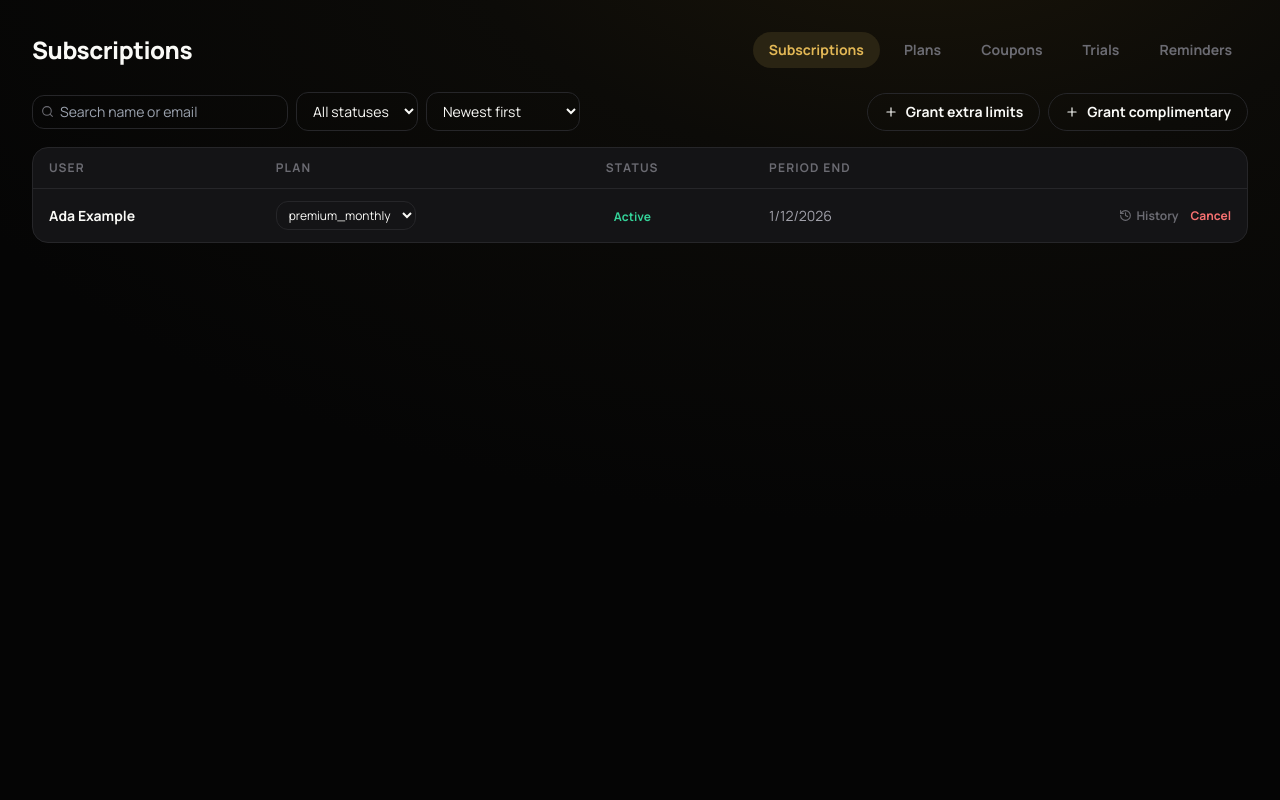
it: Subscriptions (admin) › opens a user's subscription history from the History button
Expected: the table with test id "admin-subscriptions-table" is shown, top-left (33, 148), bottom-right (1247, 242)
Click the button with test id "admin-subscriptions-history-btn-sub1".
click(1149, 216)  # box top-left (1119, 208), bottom-right (1178, 224)
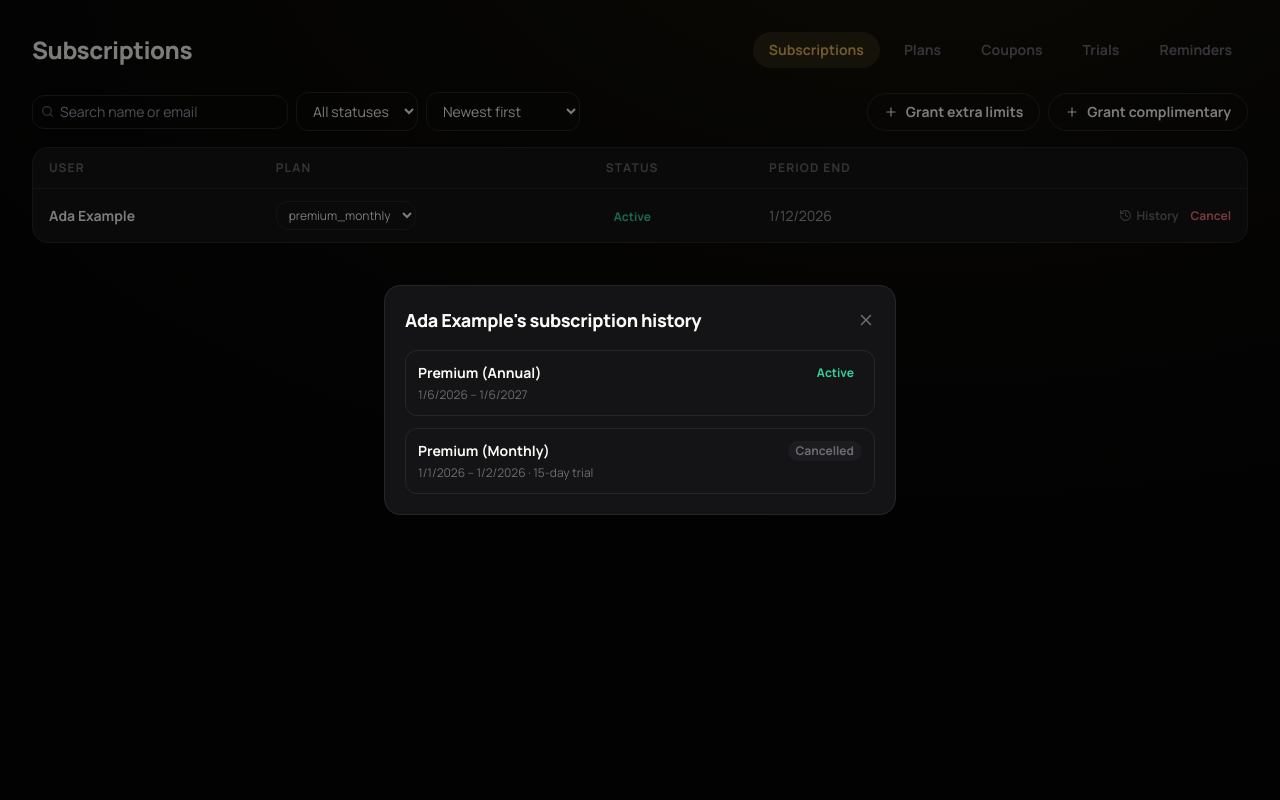
Result: the element with test id "admin-subscription-history-row-s2" is shown at top-left (405, 350), bottom-right (875, 416)
Result: the element with test id "admin-subscription-history-row-s2" shows "Premium (Annual)" at top-left (418, 363), bottom-right (542, 382)
Result: the element with test id "admin-subscription-history-row-s1" shows "15-day trial" at top-left (526, 464), bottom-right (593, 481)
Click the button with test id "admin-subscription-history-close-btn".
click(866, 320)  # box top-left (857, 311), bottom-right (875, 329)
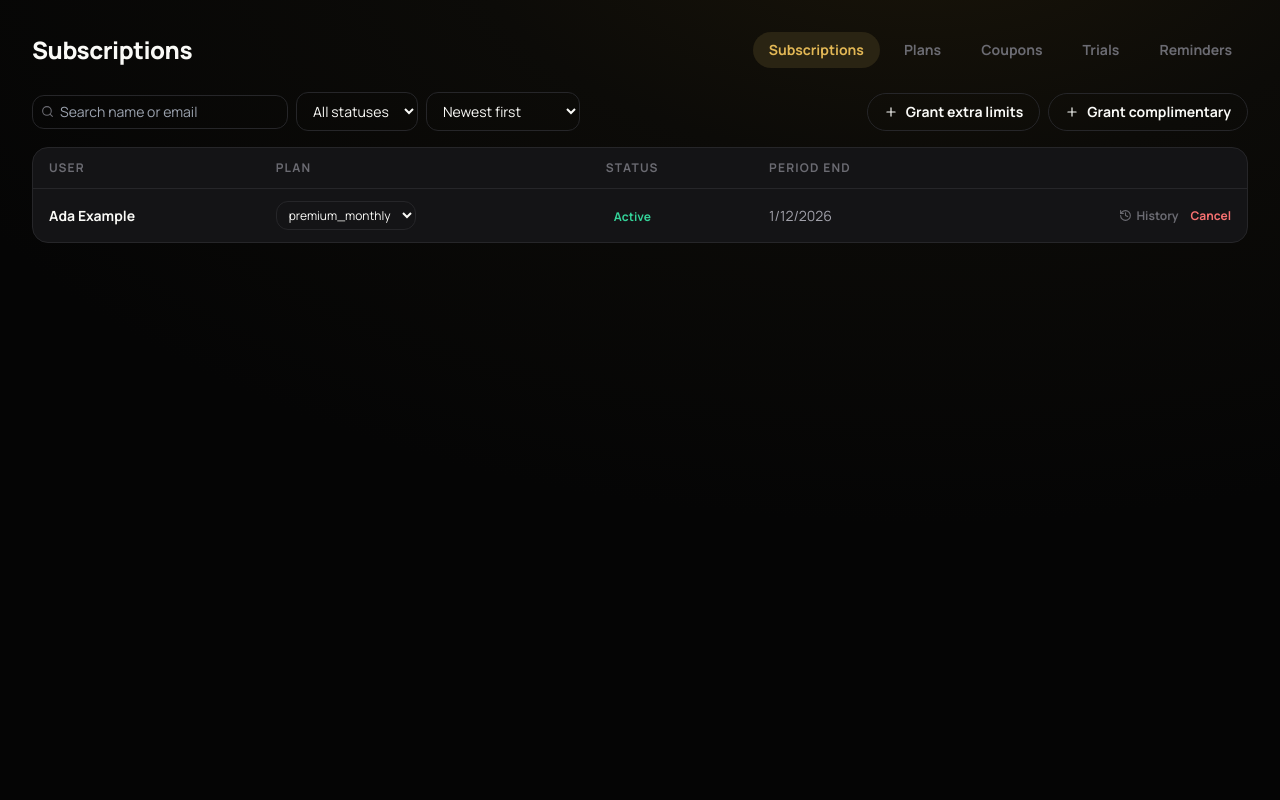
Result: the element with test id "admin-subscription-history-modal" is gone
